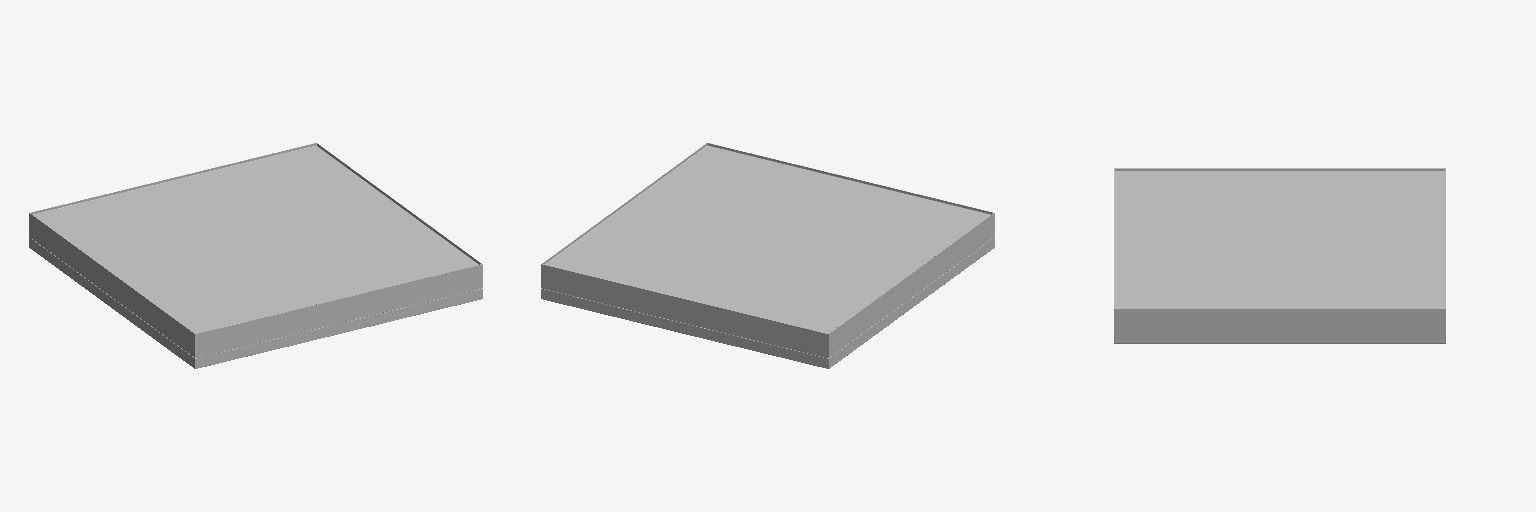
The model's file is AM152_005 Tlon Cubo 860 Ceiling_microprismatic.obj.
3 views of the same model, side by side, from view 1: azimuth 30°, elevation 25°; view 2: azimuth 150°, elevation 25°; view 3: azimuth 270°, elevation 25° (orthographic).
Visible parts, largest first — view 1: AM152_005_body_m; view 2: AM152_005_body_m; view 3: AM152_005_body_m.
Boxes of the visible parts, x1,y1,x2,y2 form: AM152_005_body_m: [29, 143, 482, 368]; AM152_005_body_m: [541, 143, 994, 368]; AM152_005_body_m: [1114, 168, 1445, 343].
Bounding box in the file's own units: 86 × 10.01 × 86.